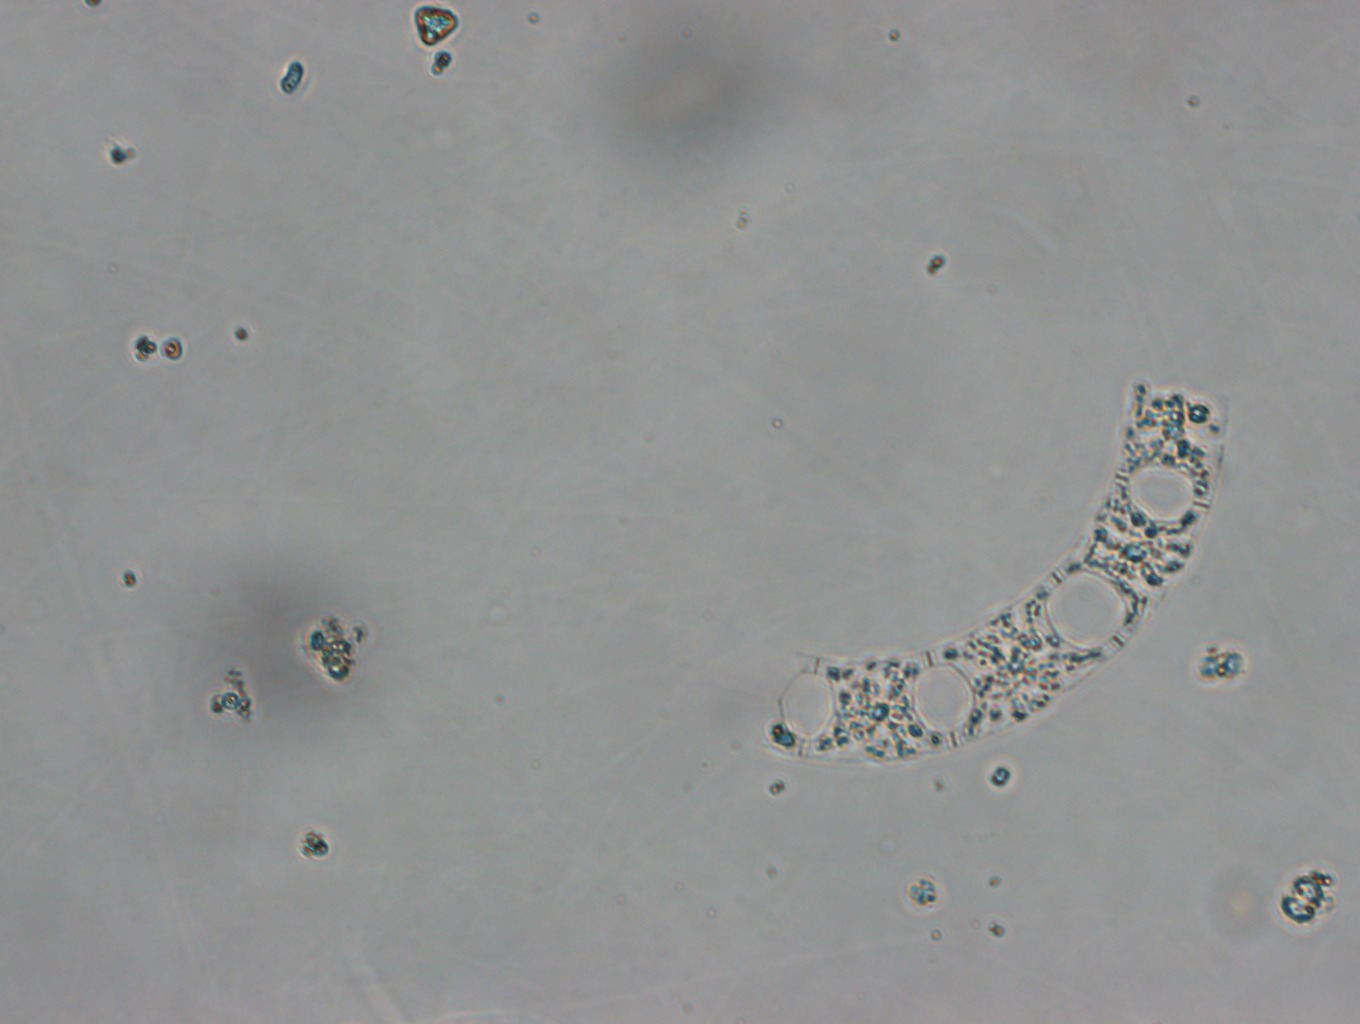eucampia: (761, 382, 1230, 766)
